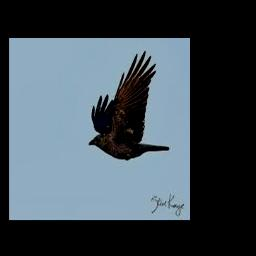Crow: (89, 51, 169, 160)
